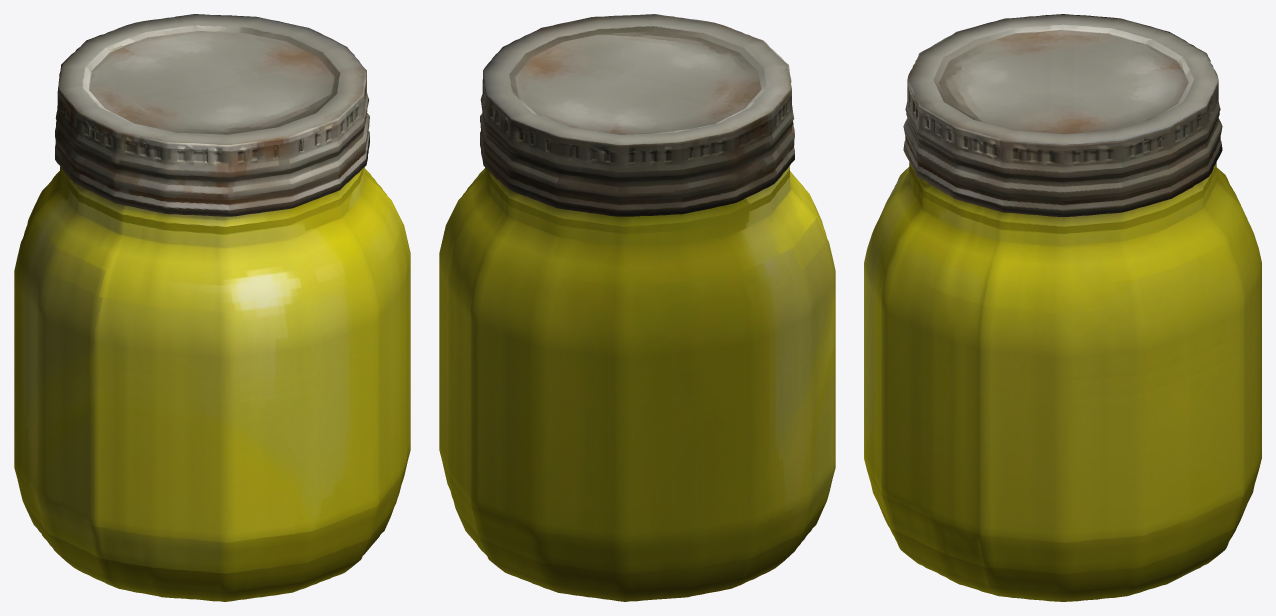
The model's file is Firefly Jar.glb.
The picture shows the model from 3 angles, left to right: view 1: azimuth 30°, elevation 25°; view 2: azimuth 150°, elevation 25°; view 3: azimuth 270°, elevation 25°; orthographic projection.
Parts seen in each view (by area): view 1: tripo_node_2dd4d74d-8e3f-43a3-b2bb-9efa18bc0594; view 2: tripo_node_2dd4d74d-8e3f-43a3-b2bb-9efa18bc0594; view 3: tripo_node_2dd4d74d-8e3f-43a3-b2bb-9efa18bc0594.
Boxes of the visible parts, x1=… form: tripo_node_2dd4d74d-8e3f-43a3-b2bb-9efa18bc0594: x1=14, y1=14, x2=410, y2=601; tripo_node_2dd4d74d-8e3f-43a3-b2bb-9efa18bc0594: x1=439, y1=14, x2=835, y2=601; tripo_node_2dd4d74d-8e3f-43a3-b2bb-9efa18bc0594: x1=864, y1=14, x2=1261, y2=601.
Size of the model in its own units: 0.7758 by 0.9788 by 0.7758.
Materials: 1 (1 with a texture image).
